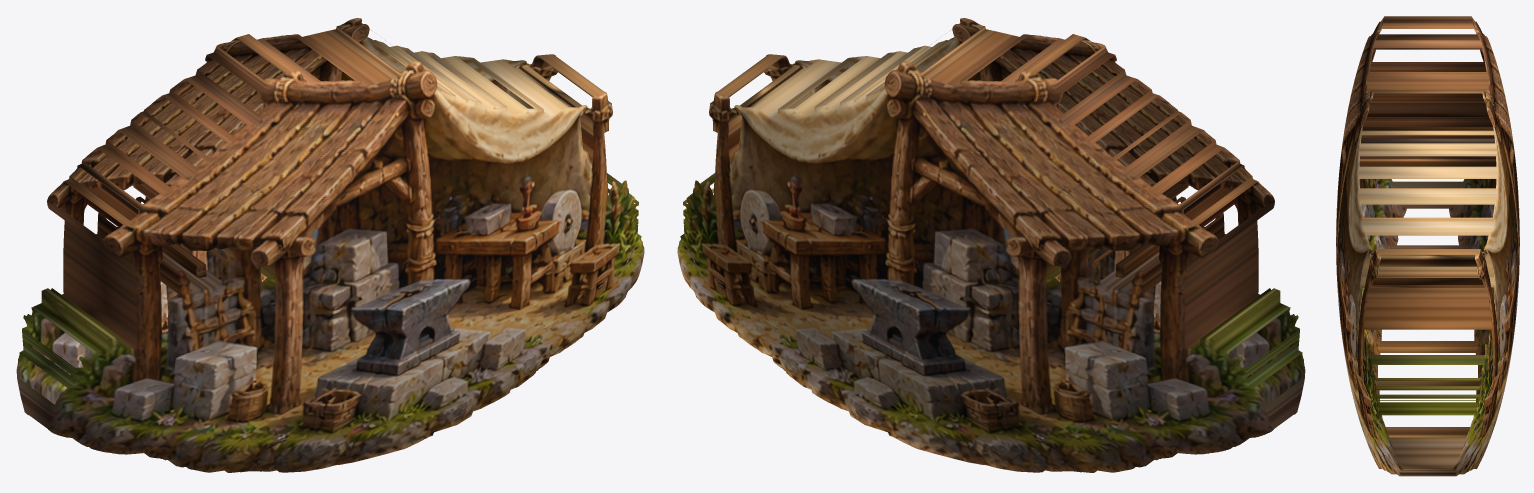
3 renders of one model, left to right at view 1: azimuth 30°, elevation 25°; view 2: azimuth 150°, elevation 25°; view 3: azimuth 270°, elevation 25°, orthographic. The views are drawn at different scales.
Parts seen in each view (by area): view 1: villages:3; view 2: villages:3; view 3: villages:3.
Part boxes in pixels (x1,y1,x2,y2): villages:3: [16, 18, 644, 472]; villages:3: [677, 18, 1305, 472]; villages:3: [1336, 16, 1519, 476].
Size of the model in its own units: 1.44 by 0.9444 by 0.42.
1 material, 1 textured.
